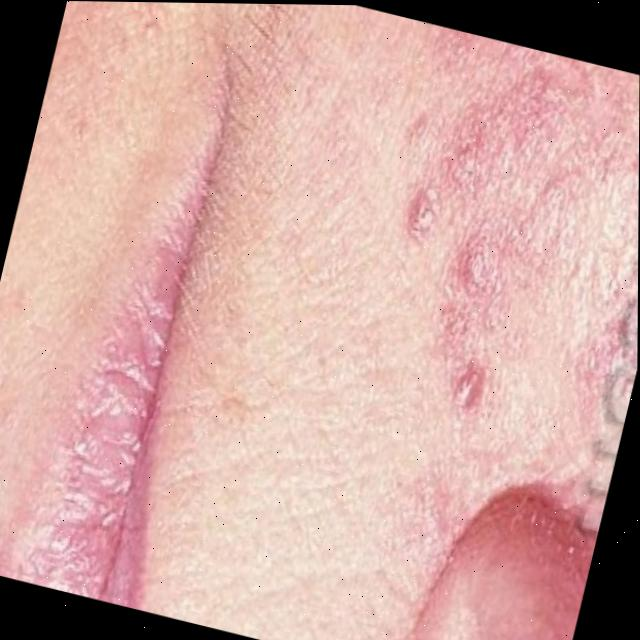Rosacea: (336, 20, 640, 444), (437, 473, 605, 640)
